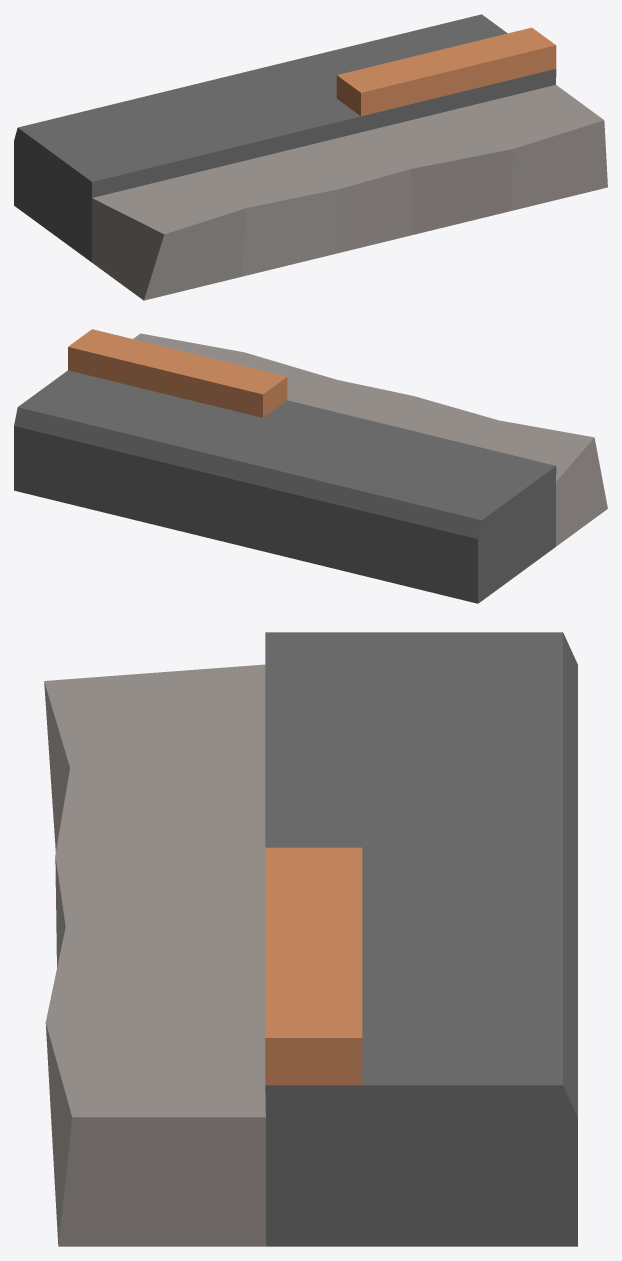
The model's file is Barrier4.fbx.
3 views of the same model, one above another, from view 1: azimuth 30°, elevation 25°; view 2: azimuth 150°, elevation 25°; view 3: azimuth 270°, elevation 25° (orthographic). The views are drawn at different scales.
Visible parts, largest first — view 1: Cube.003; view 2: Cube.003; view 3: Cube.003.
Part boxes in pixels (x1,y1,x2,y2): Cube.003: (14,14,607,300); Cube.003: (14,329,607,603); Cube.003: (44,632,577,1246).
Bounding box in the file's own units: 1203 × 258 × 599.
